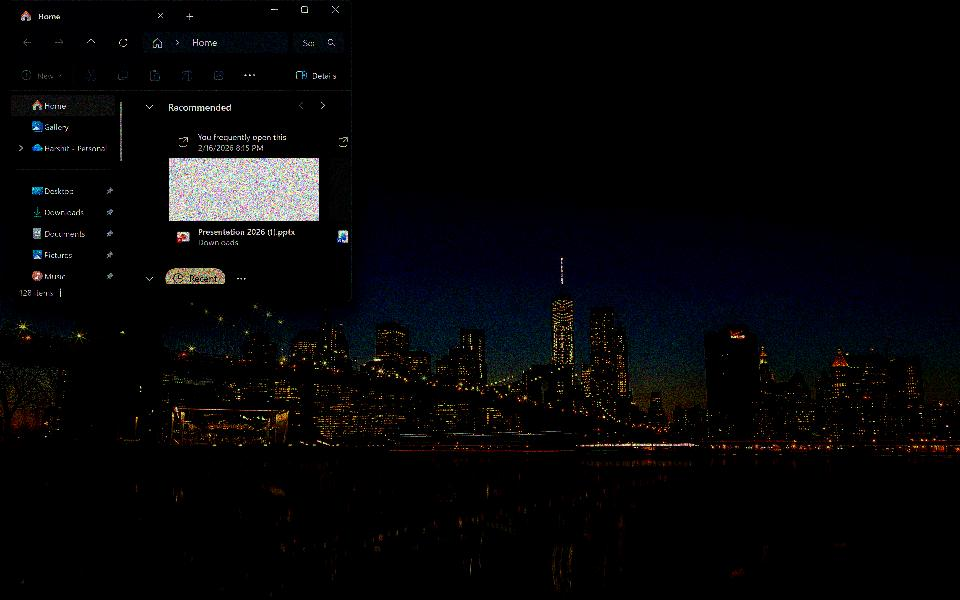close_button: (327, 2, 346, 22)
maximize_button: (296, 2, 315, 23)
minimize_button: (265, 2, 285, 20)
